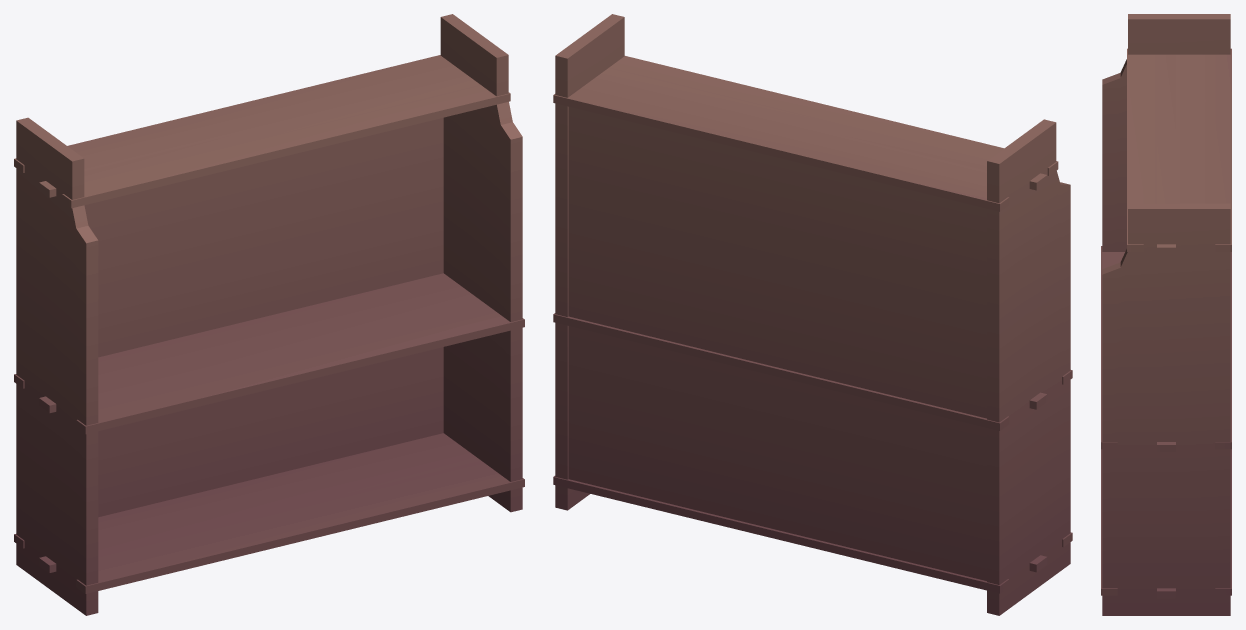
The model's file is ShelfModular.fbx.
3 views of the same model, side by side, from view 1: azimuth 30°, elevation 25°; view 2: azimuth 150°, elevation 25°; view 3: azimuth 270°, elevation 25° (orthographic). The views are drawn at different scales.
Visible parts, largest first — view 1: ShelfFrame_GEO, Shelf_GEO; view 2: ShelfFrame_GEO, Shelf_GEO; view 3: ShelfFrame_GEO, Shelf_GEO.
Part boxes in pixels (x1,y1,x2,y2): ShelfFrame_GEO: (14, 14, 524, 615); Shelf_GEO: (14, 273, 524, 434); ShelfFrame_GEO: (553, 14, 1072, 615); Shelf_GEO: (553, 313, 1072, 430); ShelfFrame_GEO: (1101, 14, 1231, 615); Shelf_GEO: (1101, 246, 1231, 451).
Size of the model in its own units: 1.86 by 1.75 by 0.51.
